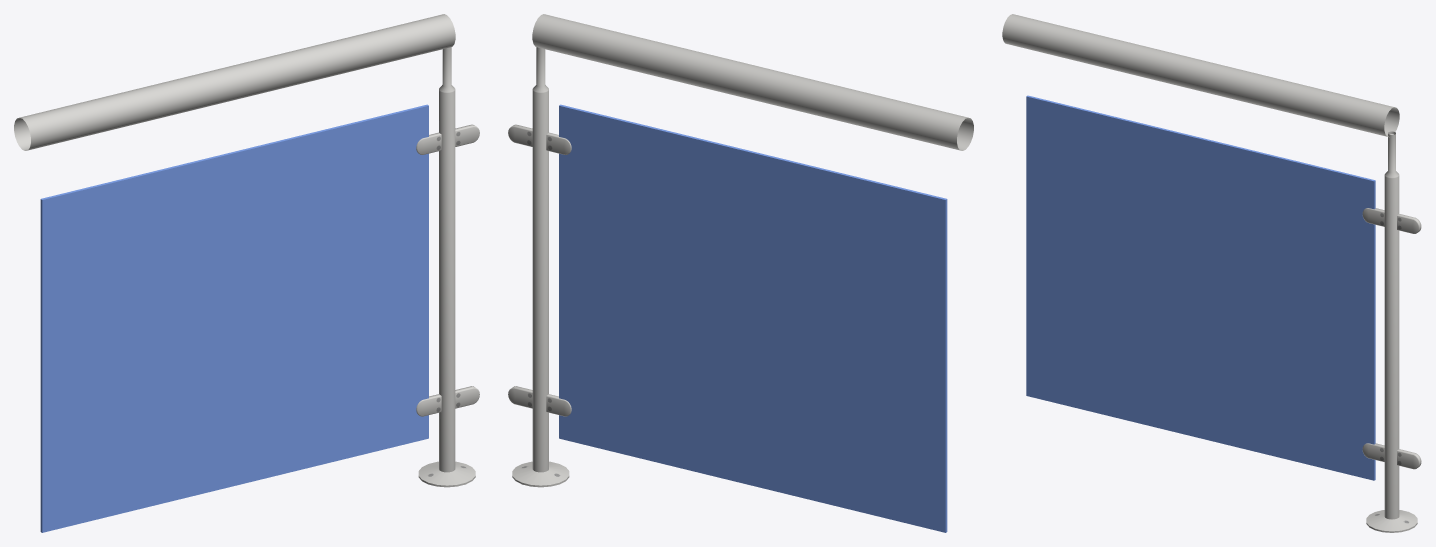
The model's file is Barrier01_2.FBX.
The picture shows the model from 3 angles, left to right: view 1: azimuth 30°, elevation 25°; view 2: azimuth 150°, elevation 25°; view 3: azimuth 330°, elevation 25°; orthographic projection. The views are drawn at different scales.
Visible parts, largest first — view 1: Glass, Metal; view 2: Glass, Metal; view 3: Glass, Metal.
Boxes of the visible parts, <box> form: Glass: <box>40,104,428,532</box>; Metal: <box>14,14,479,487</box>; Glass: <box>559,104,947,532</box>; Metal: <box>508,14,973,487</box>; Glass: <box>1026,95,1375,480</box>; Metal: <box>1002,14,1421,532</box>.
Size of the model in its own units: 107 by 103 by 11.66.
